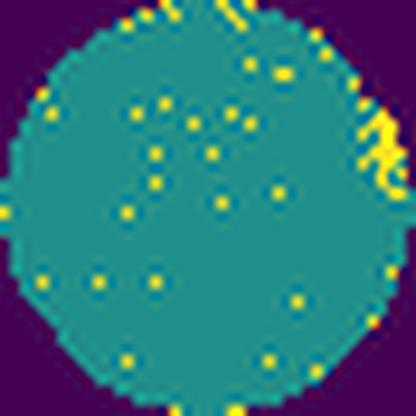Edge-Loc: (352, 106, 411, 202)
